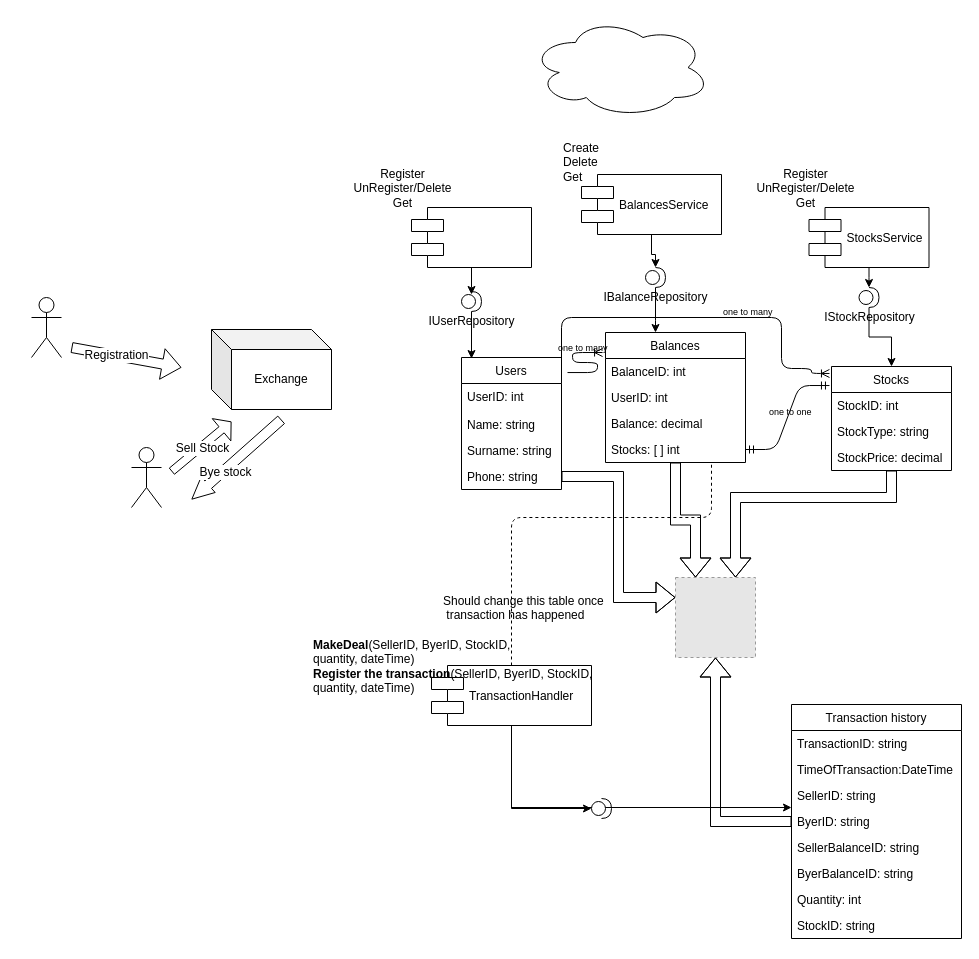
Some shapes in this 979 by 959 pixel diagram are drawn without their labels. Grey dashed boxes stand in for pictures. The shapes that lost their labels are listed below. From the top down, each one's centre as x and y in pixels, then its label:
point (620, 67): TradingApp
point (471, 237): UsersService
point (46, 327): New Client
point (146, 477): Client
point (601, 808): IHistoryRepository
